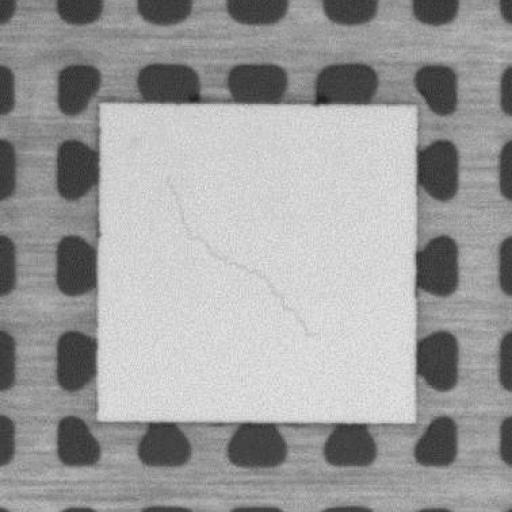DIE_CRACK: (162, 173, 322, 338)
